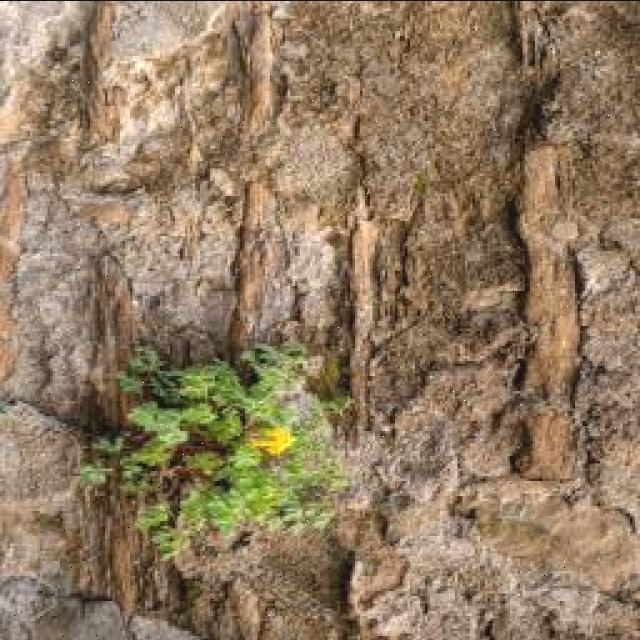crack: (1, 1, 638, 638), (167, 19, 326, 635), (260, 0, 529, 243), (78, 244, 160, 635), (223, 6, 295, 373), (533, 2, 639, 148), (222, 172, 257, 366), (78, 3, 116, 153), (227, 8, 263, 118), (2, 519, 59, 574), (2, 392, 76, 430), (345, 102, 367, 193)
dampens: (0, 392, 132, 637), (4, 584, 218, 640)
vegetation: (80, 337, 352, 561), (383, 177, 530, 355), (536, 128, 640, 290), (262, 203, 354, 358), (88, 401, 214, 490), (78, 135, 168, 199), (1, 572, 75, 640), (166, 485, 230, 553), (168, 364, 245, 414), (125, 401, 193, 446), (121, 343, 171, 397), (189, 402, 247, 446), (81, 436, 130, 487), (117, 374, 145, 394)
